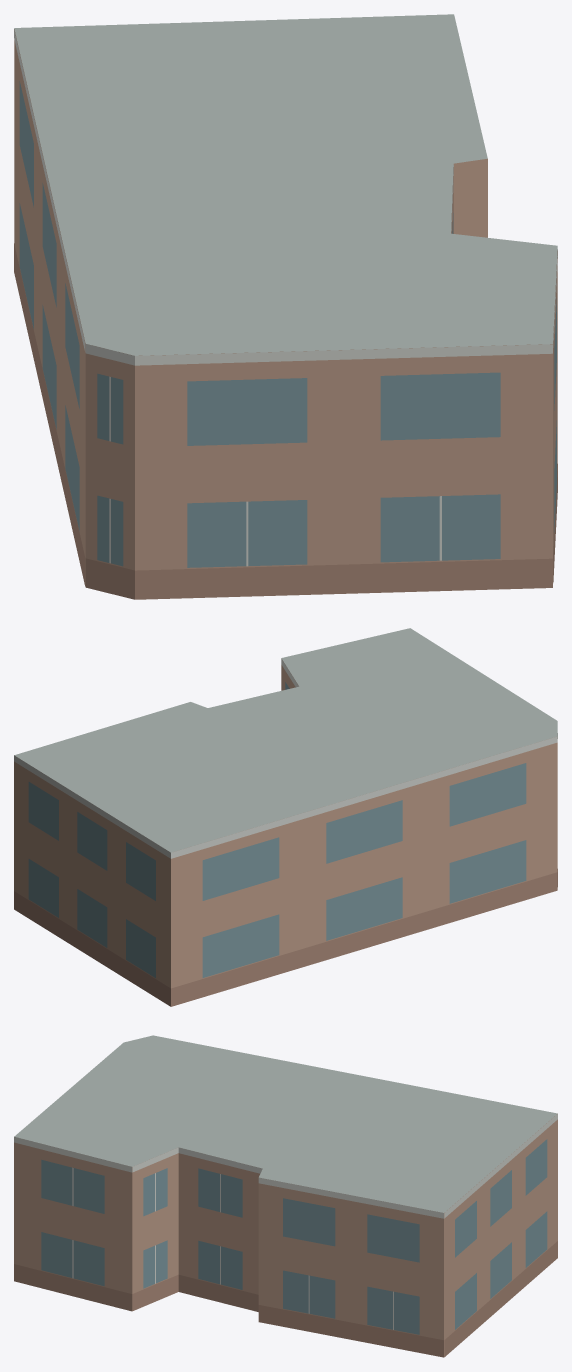
Rendered from survey-upis-32798088.glb.
The picture shows the model from 3 angles, top to bottom: view 1: azimuth 30°, elevation 25°; view 2: azimuth 150°, elevation 25°; view 3: azimuth 270°, elevation 25°; orthographic projection. The views are drawn at different scales.
Visible parts, largest first — view 1: survey-upis-32798088.tmp; view 2: survey-upis-32798088.tmp; view 3: survey-upis-32798088.tmp.
Part boxes in pixels (left/top/right/bottom): survey-upis-32798088.tmp: left=14, top=14, right=557, bottom=599; survey-upis-32798088.tmp: left=14, top=628, right=557, bottom=1006; survey-upis-32798088.tmp: left=14, top=1035, right=557, bottom=1357.
Bounding box in the file's own units: 16.09 × 6.1 × 20.81.
